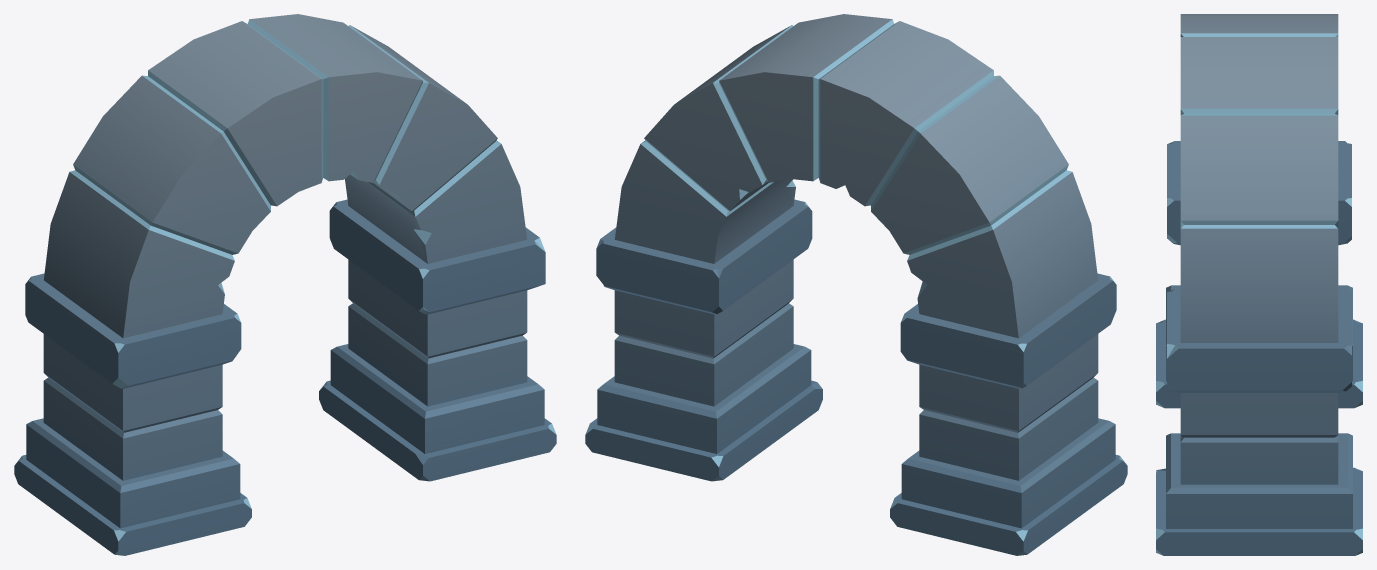
Rendered from Archway_Big_01.glb.
3 views of the same model, side by side, from view 1: azimuth 30°, elevation 25°; view 2: azimuth 150°, elevation 25°; view 3: azimuth 270°, elevation 25° (orthographic).
Parts seen in each view (by area): view 1: Archway_Big_01; view 2: Archway_Big_01; view 3: Archway_Big_01.
Boxes of the visible parts, x1,y1,x2,y2 form: Archway_Big_01: (14,14,556,555); Archway_Big_01: (585,14,1127,555); Archway_Big_01: (1156,14,1362,555).
Bounding box in the file's own units: 4.38 × 3.98 × 1.8.
Materials: 1 (1 with a texture image).
